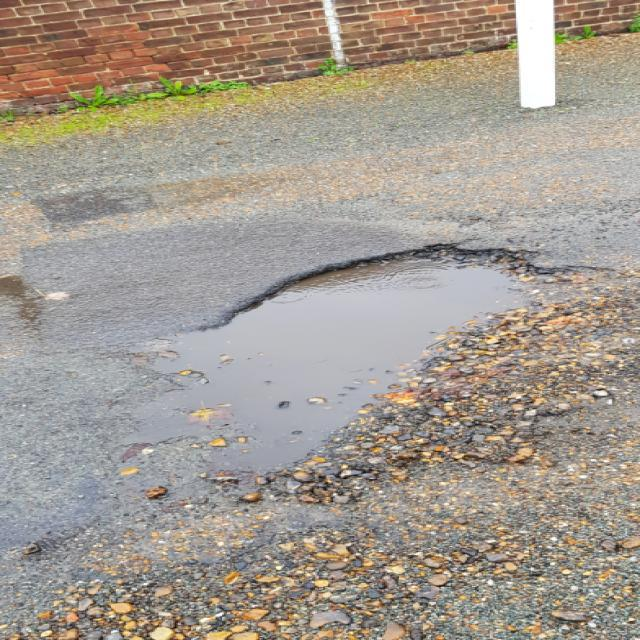Pothole: (128, 240, 602, 482)
